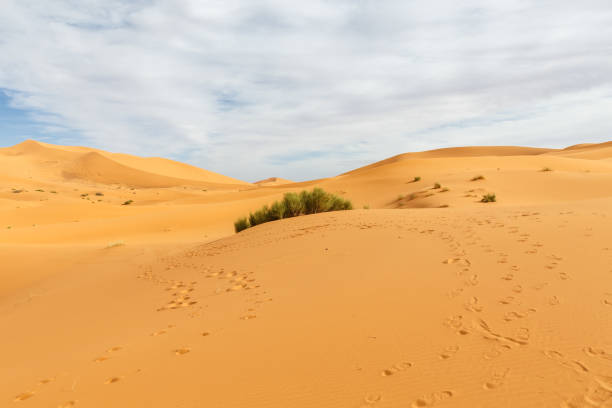human_footprint: (562, 376, 611, 407), (473, 319, 529, 345), (157, 281, 197, 310), (543, 350, 589, 374), (13, 377, 54, 401), (411, 390, 453, 407), (104, 368, 141, 384), (483, 369, 510, 390), (444, 315, 469, 335), (381, 361, 412, 376), (93, 346, 122, 362), (503, 308, 536, 322), (483, 344, 511, 359), (583, 346, 611, 360), (359, 393, 382, 407), (150, 324, 175, 336), (464, 297, 483, 312), (439, 345, 459, 359), (514, 327, 530, 342), (14, 391, 34, 401), (464, 274, 479, 286), (447, 287, 463, 297), (532, 282, 548, 291), (104, 376, 122, 384), (57, 400, 77, 407), (173, 347, 190, 355), (547, 295, 560, 305), (498, 296, 514, 304), (501, 272, 514, 281), (150, 329, 166, 336), (512, 285, 523, 294), (603, 293, 611, 305), (107, 346, 122, 352), (240, 314, 256, 319), (200, 331, 210, 336)
